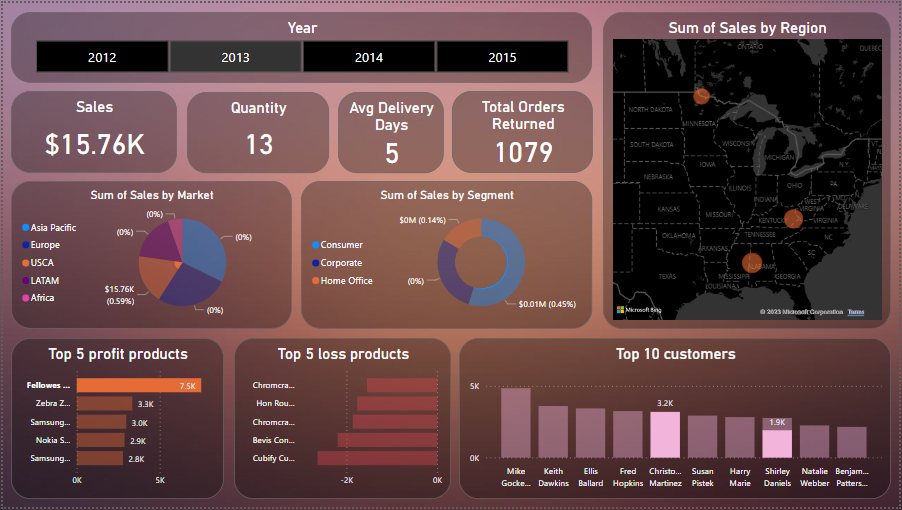

This screenshot's page, from the dashboard's own definition file:
{"tool":"powerbi","page":{"name":"Page 1","canvas":[1280,720],"ordinal":0},"visuals":[{"type":"card","title":"Sales","fields":{"Values":["Sum(Orders.Sales)"]},"box":[11.7,125.8,236.5,117.4],"z":0},{"type":"card","title":"Quantity","fields":{"Values":["Sum(Orders.Quantity)"]},"box":[263.4,127.5,203,115.8],"z":1000},{"type":"card","title":"Avg Delivery Days","fields":{"Values":["Avg(Orders.Delivery Days)"]},"box":[478.1,127.5,151,115.8],"z":2000},{"type":"slicer","title":"Year","fields":{"Values":["Orders.Year"]},"box":[11.7,13.4,830.4,100.7],"z":3000},{"type":"card","title":"Total Orders Returned","fields":{"Values":["Sum(Returns.Return Orders)"]},"box":[640.8,125.8,201.3,117.4],"z":4000},{"type":"map","fields":{"Size":["Sum(Orders.Sales)"],"Category":["Orders.Region"]},"box":[857.2,13.4,411,452.9],"z":5000},{"type":"barChart","title":"Top 5 profit products","fields":{"Y":["Sum(Orders.Profit)"],"Category":["Orders.Product Name"]},"box":[640.8,478.1,303.6,229.8],"z":6000},{"type":"barChart","title":"Top 5 loss products","fields":{"Y":["Sum(Orders.Profit)"],"Category":["Orders.Product Name"]},"box":[957.9,478.1,310.4,229.8],"z":7000},{"type":"pieChart","fields":{"Y":["Sum(Orders.Sales)"],"Category":["Orders.Market"]},"box":[441.2,255,400.9,211.4],"z":8000},{"type":"donutChart","fields":{"Category":["Orders.Segment"],"Y":["Sum(Orders.Sales)"]},"box":[11.7,255,416,211.4],"z":9000},{"type":"columnChart","title":"Top 10 customers","fields":{"Y":["Sum(Orders.Profit)"],"Category":["Orders.Customer Name"]},"box":[11.7,478.1,617.4,229.8],"z":10000}]}

Visuals, with their boxes in screenshot pixels (x1, y1, x2, y2), scaled from the page's 1280x720 canvas onto the 902x510 screenshot:
"Sales" card: 8/89/175/172
"Quantity" card: 186/90/329/172
"Avg Delivery Days" card: 337/90/443/172
"Year" slicer: 8/9/593/81
"Total Orders Returned" card: 452/89/593/172
map - Sum(Orders.Sales) x Orders.Region: 604/9/894/330
"Top 5 profit products" barChart: 452/339/666/501
"Top 5 loss products" barChart: 675/339/894/501
pieChart - Sum(Orders.Sales) x Orders.Market: 311/181/593/330
donutChart - Orders.Segment x Sum(Orders.Sales): 8/181/301/330
"Top 10 customers" columnChart: 8/339/443/501
